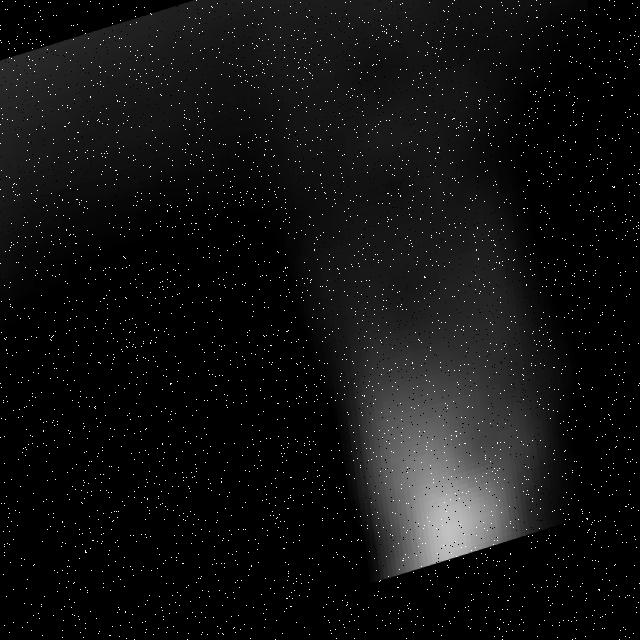person: (258, 207, 594, 615)
